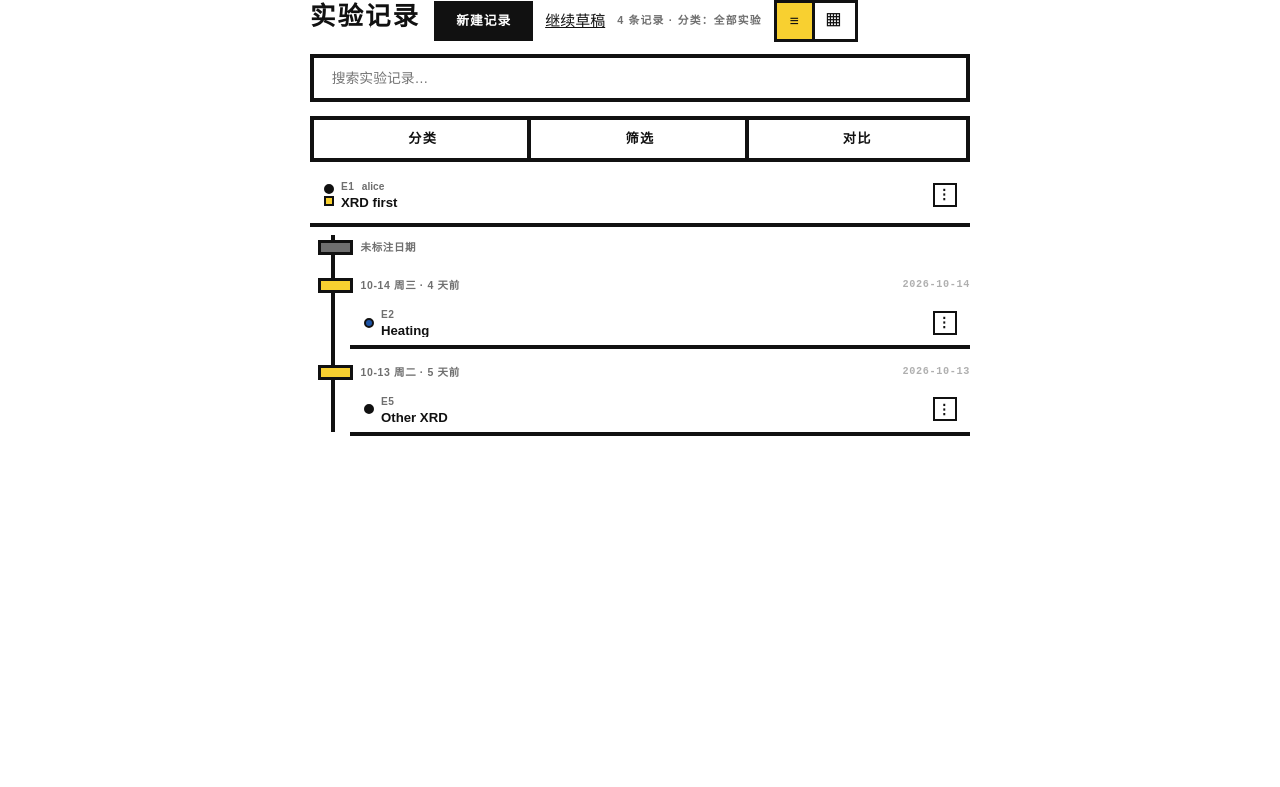
Test: 菜单置顶和新建分类使用原接口，更新 React 数据且不触发详情导航
Expected: the text "XRD first" is shown, x1=341 y1=196 x2=397 y2=209
Click the button named "Experiment actions". click: (944, 194)
box: x1=932 y1=182 x2=956 y2=206
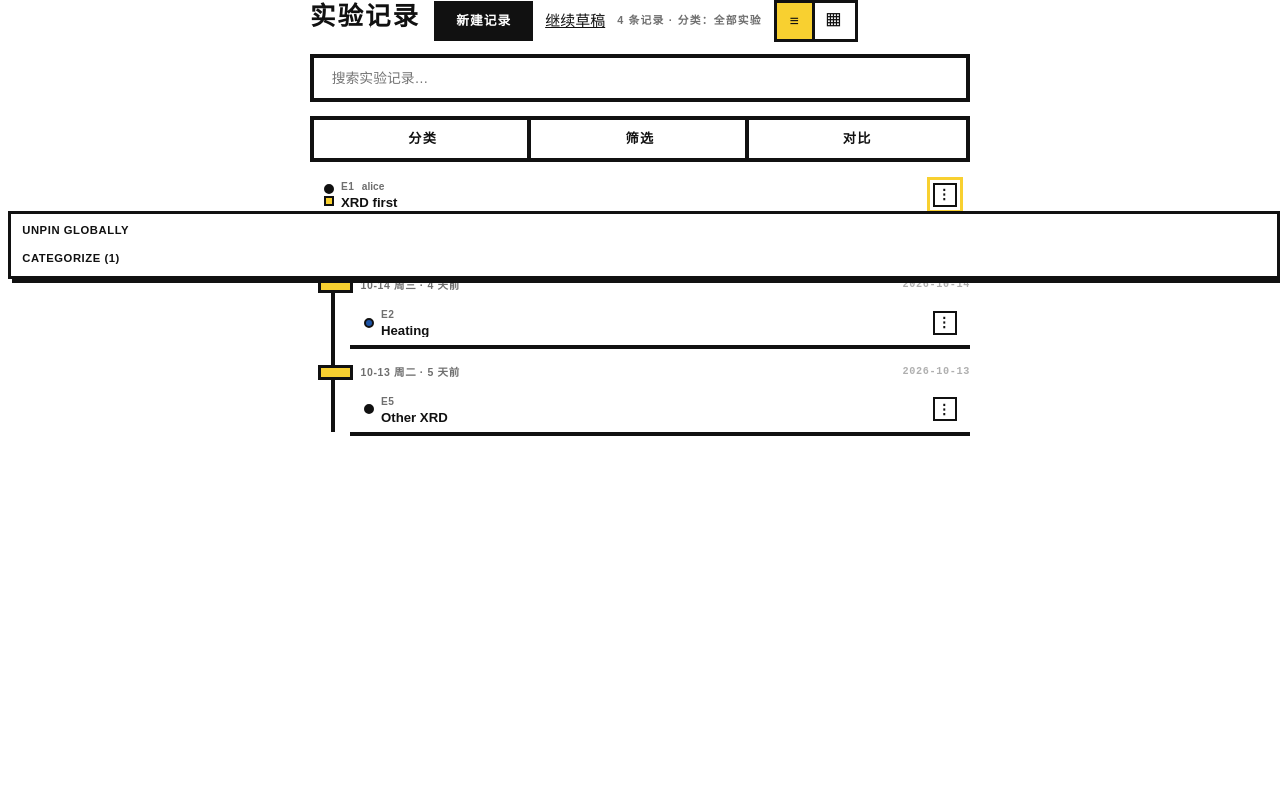
Click the button "Unpin Globally". click: (41, 230)
box: x1=11 y1=216 x2=1277 y2=245
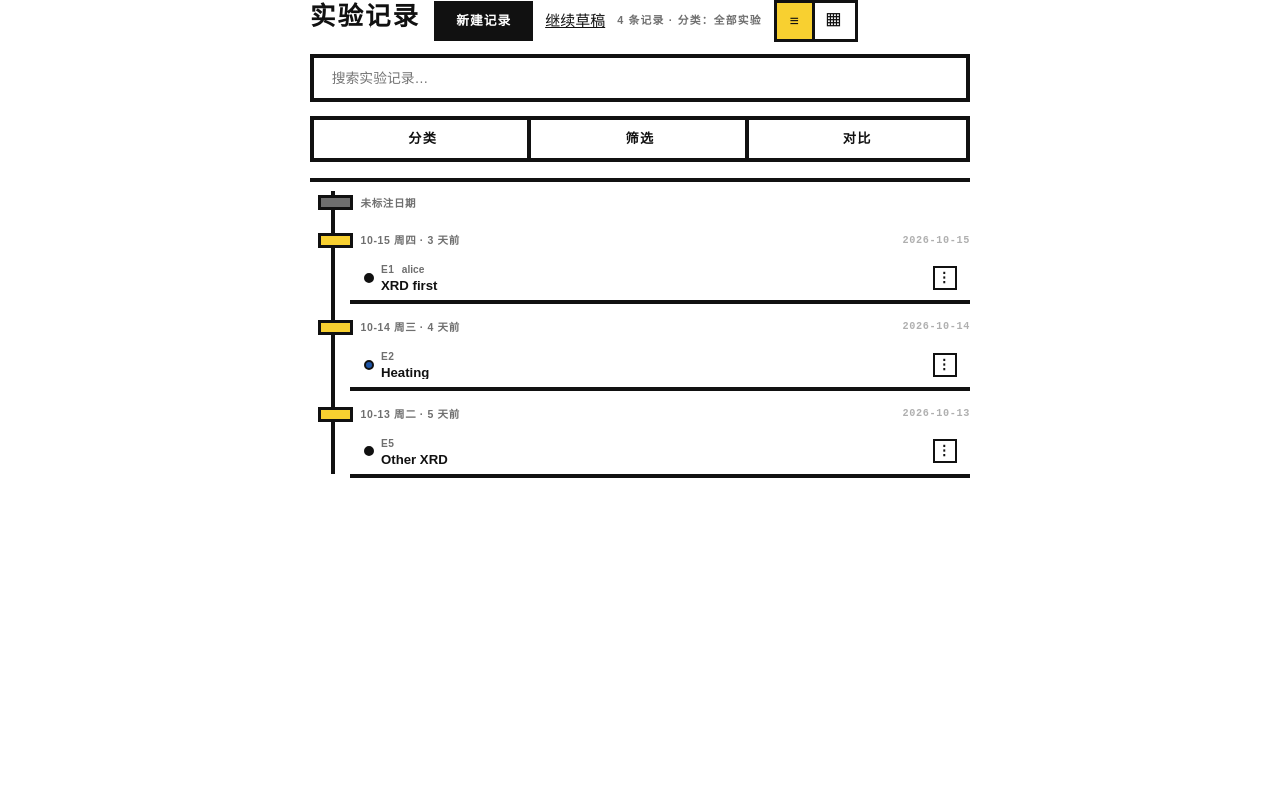
Now the element named "Pinned experiments" has attribute hidden, box x1=310 y1=172 x2=970 y2=182
Click the button "分类". click: (423, 139)
box: x1=314 y1=120 x2=531 y2=158
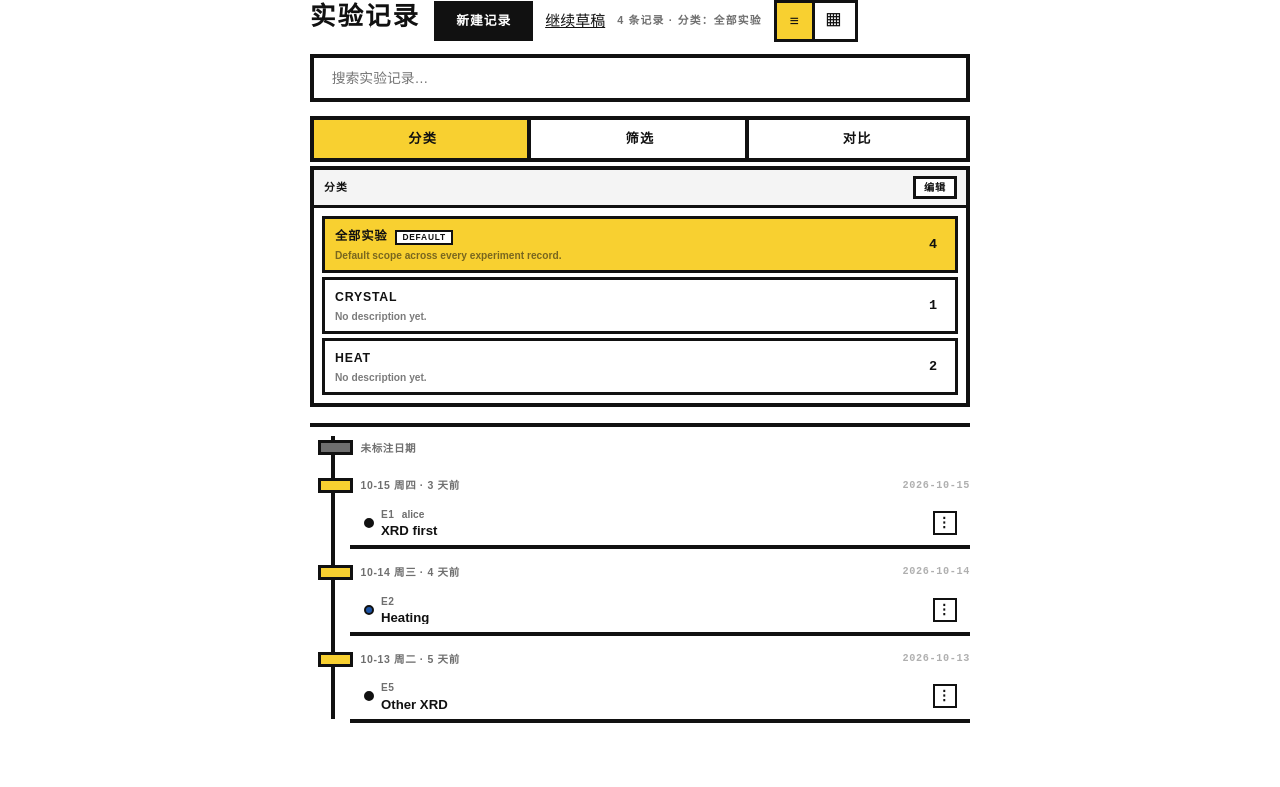
Click the button "编辑". click: (935, 188)
box: x1=914 y1=177 x2=956 y2=198
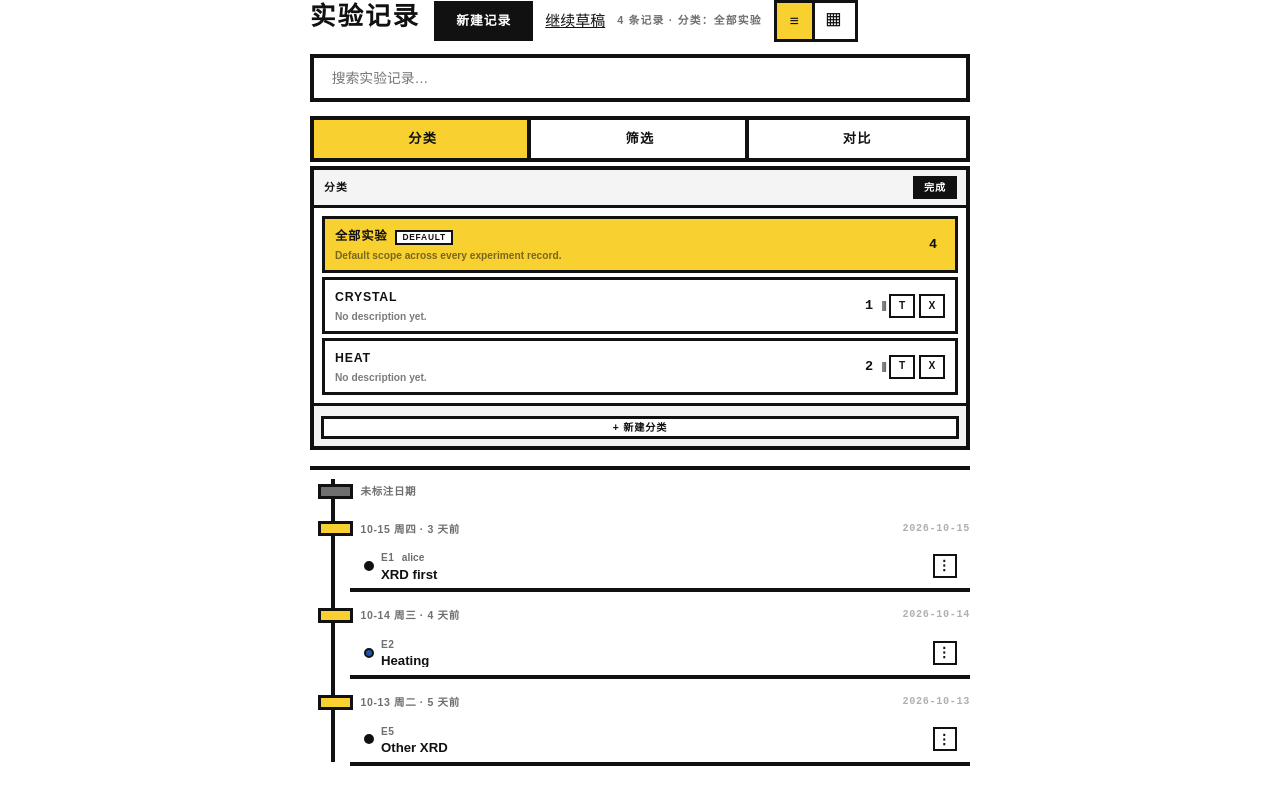
Click the button "+ 新建分类". click: (640, 428)
box: x1=322 y1=417 x2=958 y2=438
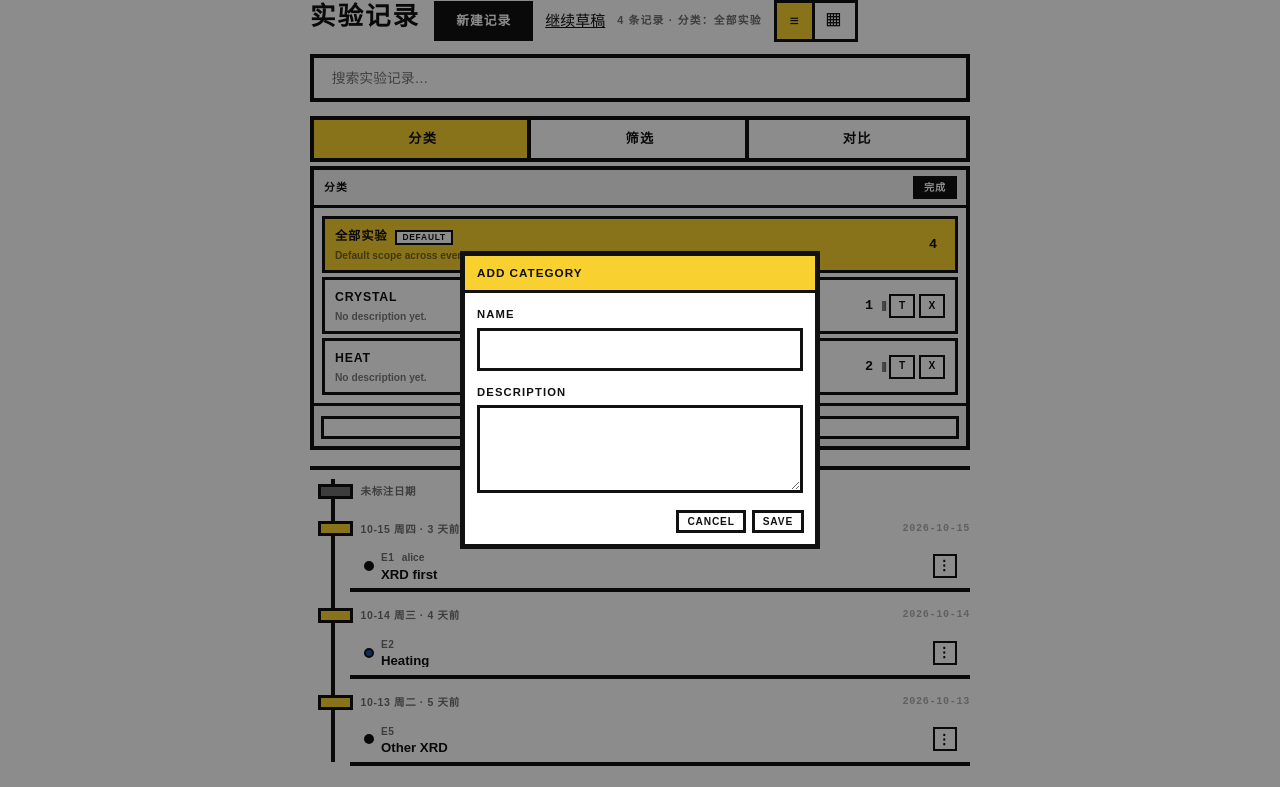
Type "new" into the field labelled "Name". click: (640, 349)
box: x1=477 y1=328 x2=803 y2=371
Click the button "Save". click: (778, 522)
box: x1=753 y1=511 x2=803 y2=532
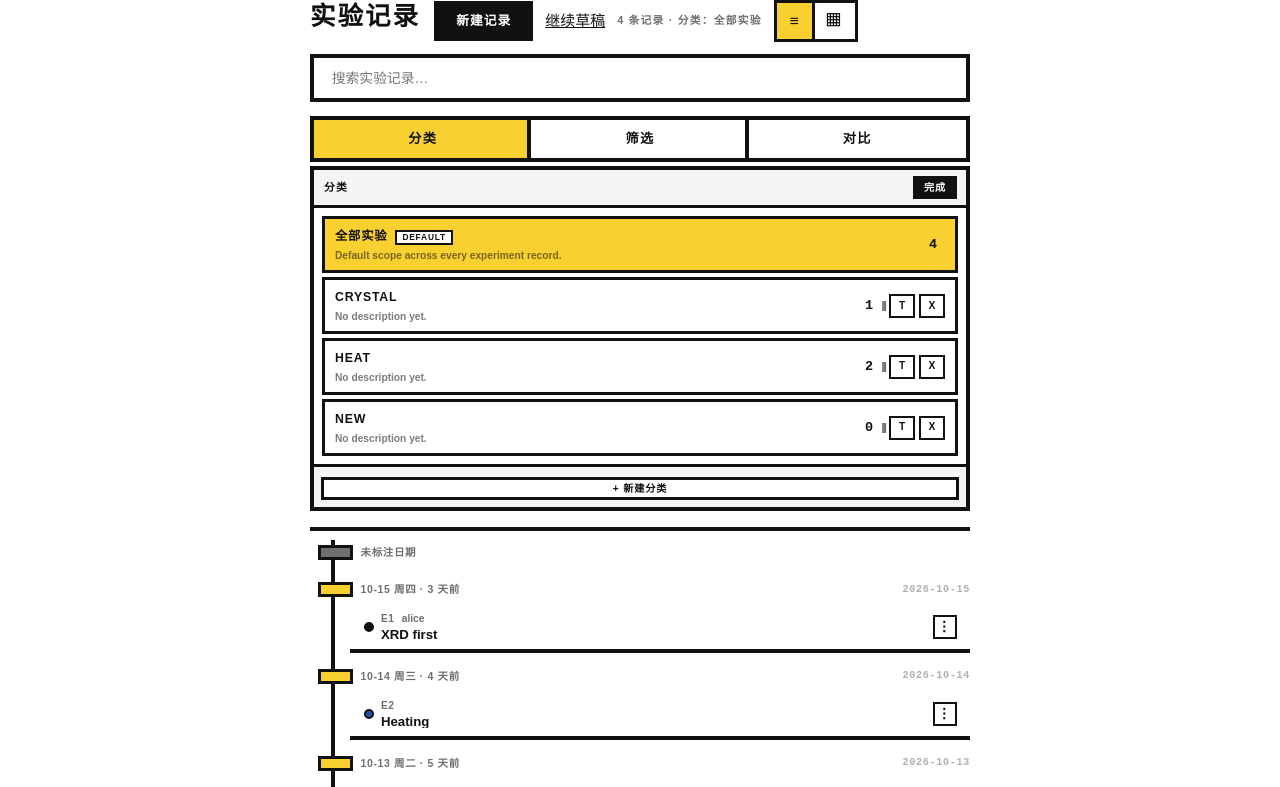
Now the text "new" is shown, box x1=335 y1=410 x2=366 y2=430
